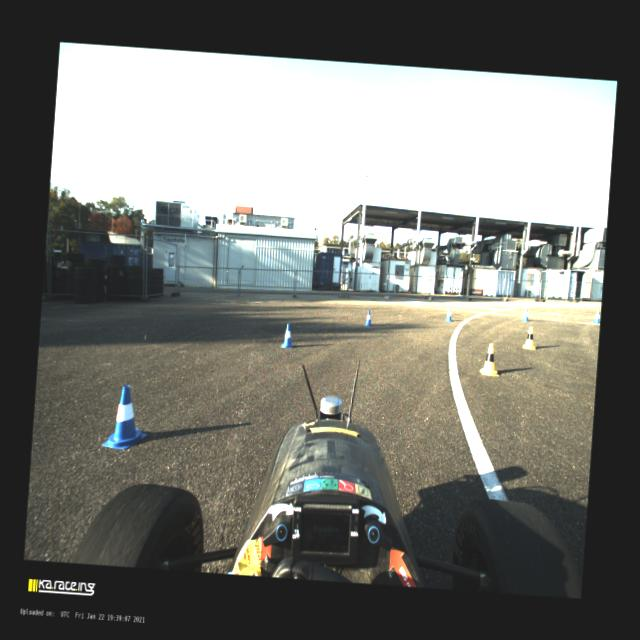blue_cone: (102, 383, 150, 449), (280, 323, 296, 348), (363, 308, 373, 326), (444, 307, 452, 321), (521, 308, 529, 322), (592, 310, 600, 324)
yellow_cone: (478, 342, 500, 376), (522, 324, 538, 348)
